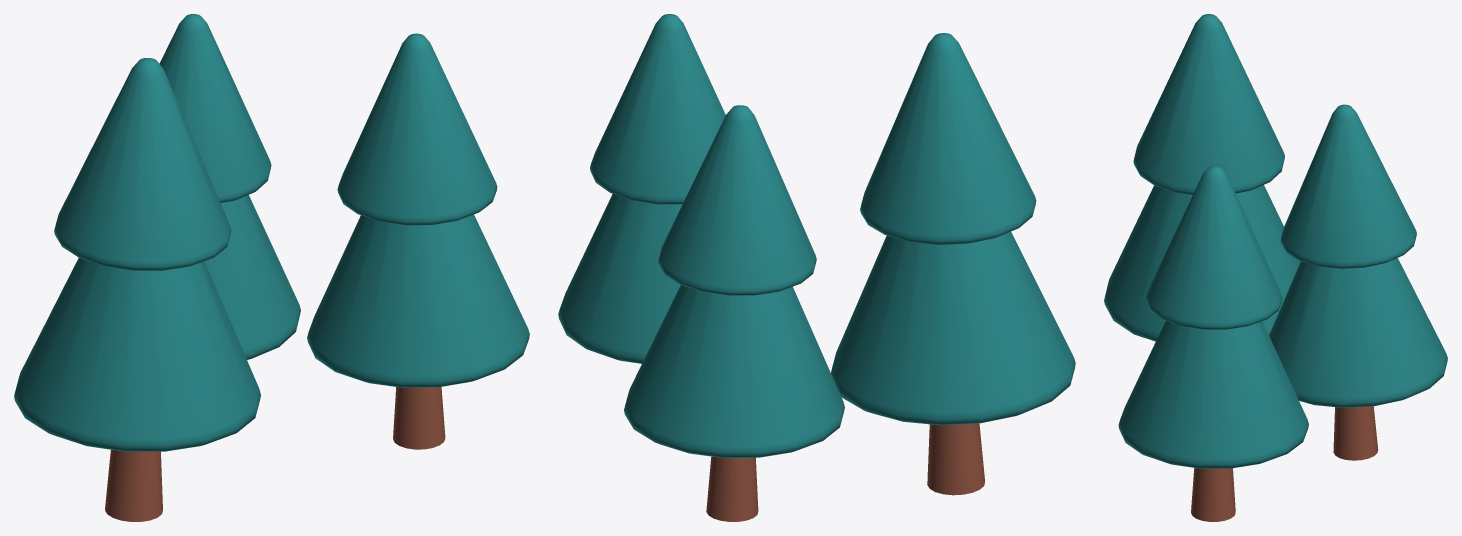
File: Testuntitled.fbx
3 renders of one model, left to right at view 1: azimuth 30°, elevation 25°; view 2: azimuth 150°, elevation 25°; view 3: azimuth 270°, elevation 25°, orthographic. The views are drawn at different scales.
Parts seen in each view (by area): view 1: detail_forestB; view 2: detail_forestB; view 3: detail_forestB.
Boxes of the visible parts, left/top/right/bottom form: detail_forestB: left=14, top=14, right=529, bottom=521; detail_forestB: left=558, top=14, right=1075, bottom=521; detail_forestB: left=1104, top=14, right=1447, bottom=521.
Size of the model in its own units: 82.92 by 73.38 by 59.53.
